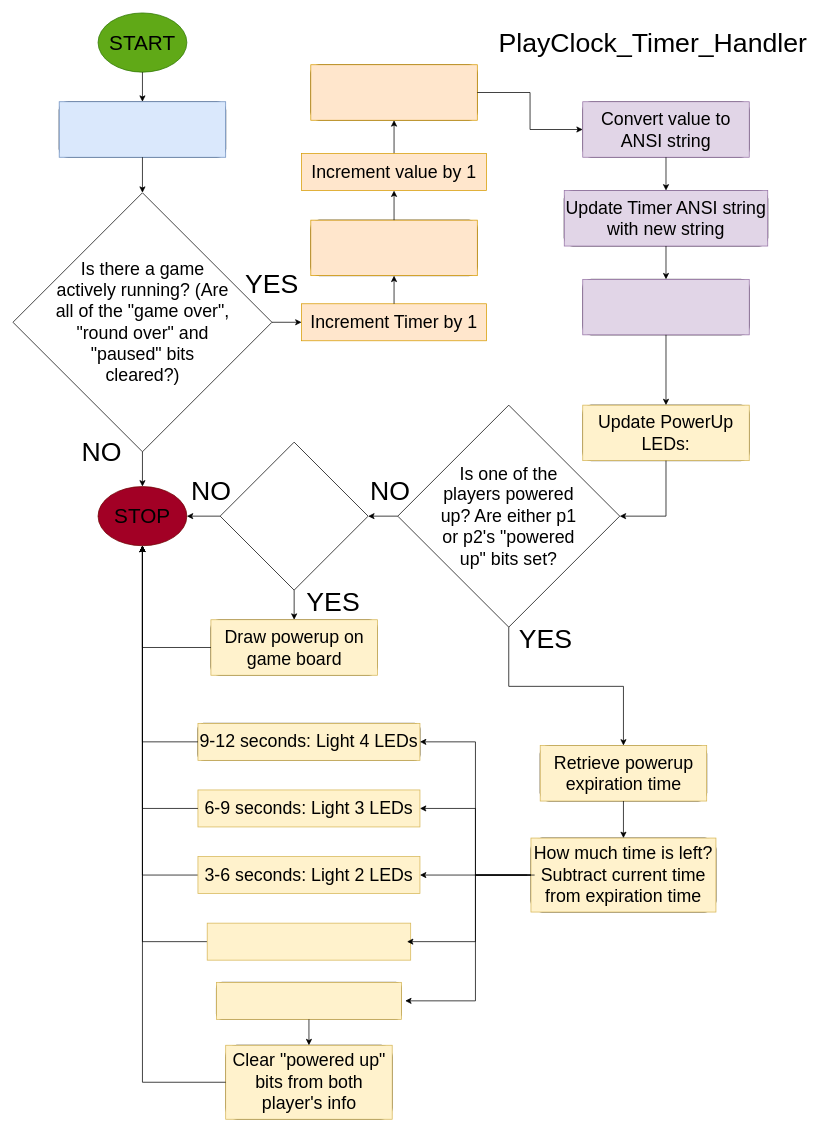
This 820x1132 diagram has some shape labels left out. Here are the shapes that lost their labels. From the top down, the centre of each, then its label:
At point (393, 92): "Update PlayClock timer info".
At point (142, 129): "Clear the interrupt".
At point (393, 247): "Retrieve PlayClock timer info".
At point (665, 307): "Print new Timer ANSI string".
At point (293, 515): "Is it time to respawn the powerup?".
At point (308, 941): "1-3 seconds: Light 1 LED".
At point (308, 1000): "0 seconds: 0 LEDs".
